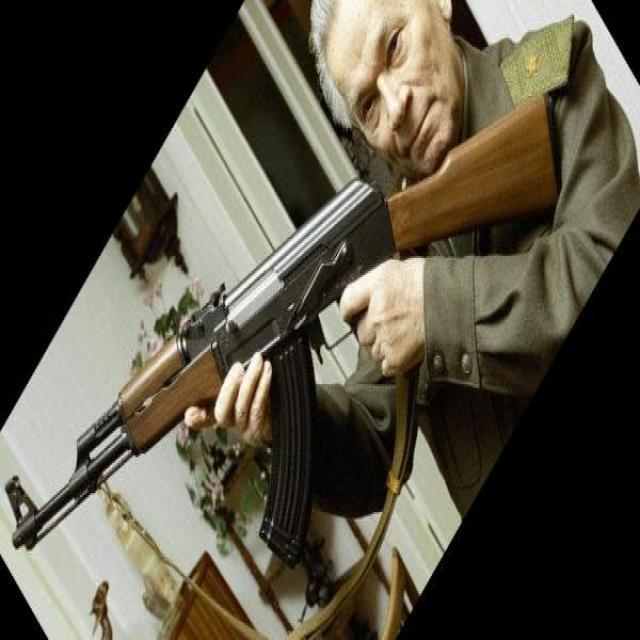weapon: (4, 89, 561, 572)
